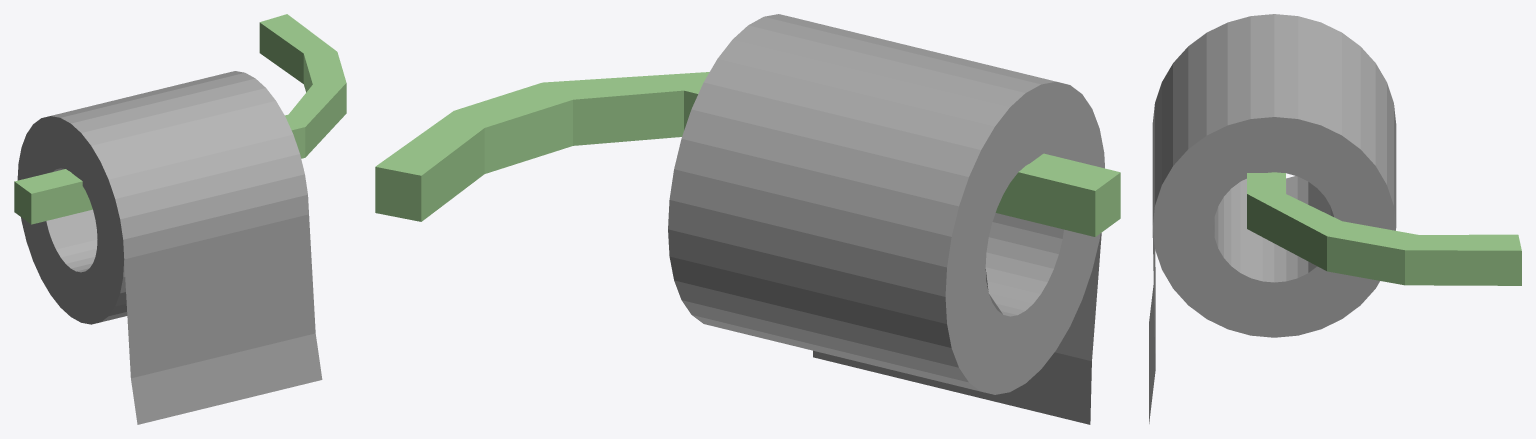
The model's file is Toilet roll.fbx.
3 views of the same model, side by side, from view 1: azimuth 30°, elevation 25°; view 2: azimuth 150°, elevation 25°; view 3: azimuth 270°, elevation 25° (orthographic). The views are drawn at different scales.
Parts seen in each view (by area): view 1: Toilet roll; view 2: Toilet roll; view 3: Toilet roll.
Part boxes in pixels (x1=…): Toilet roll: x1=14, y1=14, x2=346, y2=424; Toilet roll: x1=375, y1=14, x2=1120, y2=424; Toilet roll: x1=1149, y1=14, x2=1521, y2=423.
Bounding box in the file's own units: 110 × 74.11 × 83.06.
